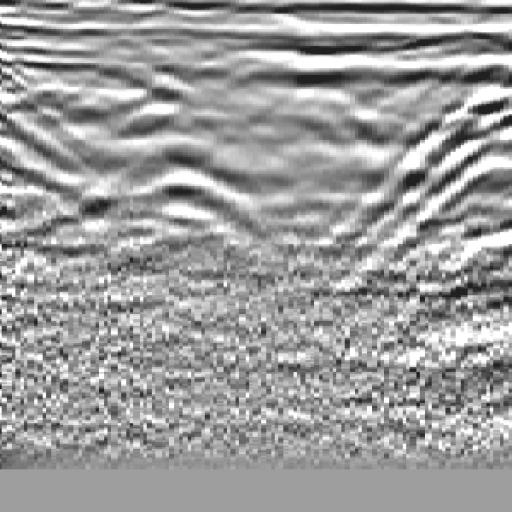metalic: (57, 39, 275, 280)
nonmetalic: (346, 43, 512, 293)
